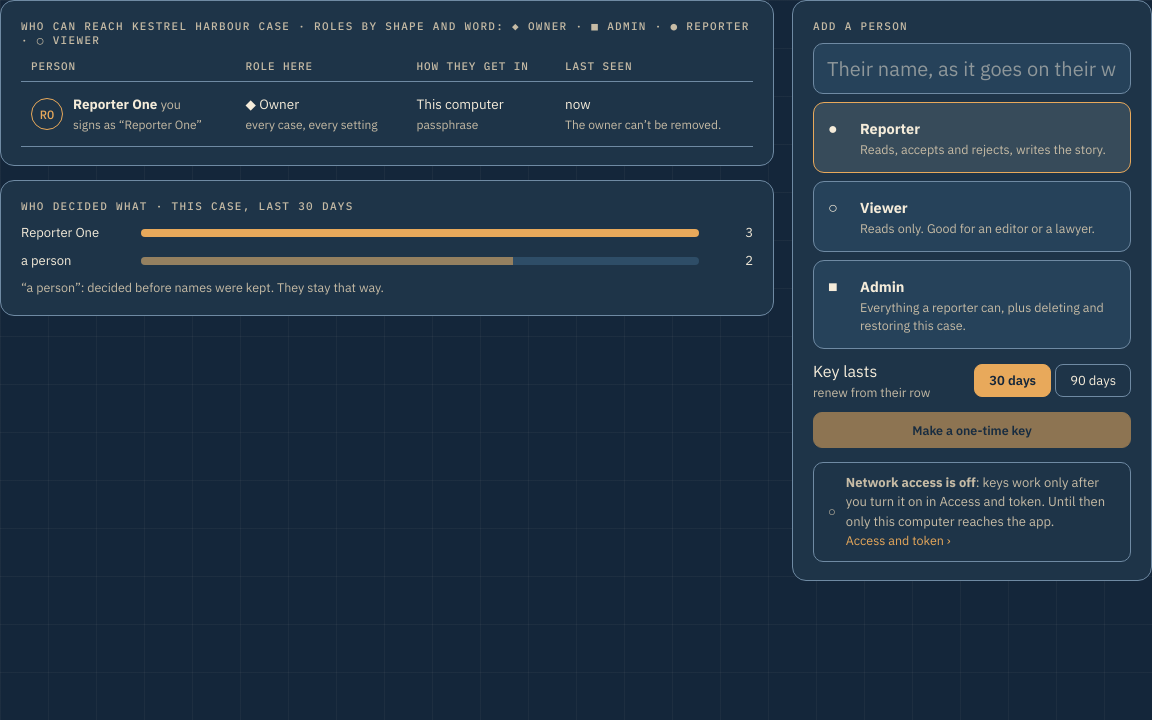
Scenario: Settings › Your safety and People and access › adds a person to this case with a one-time key, and says network access is off
Expected: the text "a person" is shown, [21,252,72,269]
Expected: the text "Network access is off" is shown, [846,474,976,491]
Type "Jo Okafor" into the field labelled "Their name".
click(972, 68); type("Jo Okafor")  # box [813,43,1131,94]
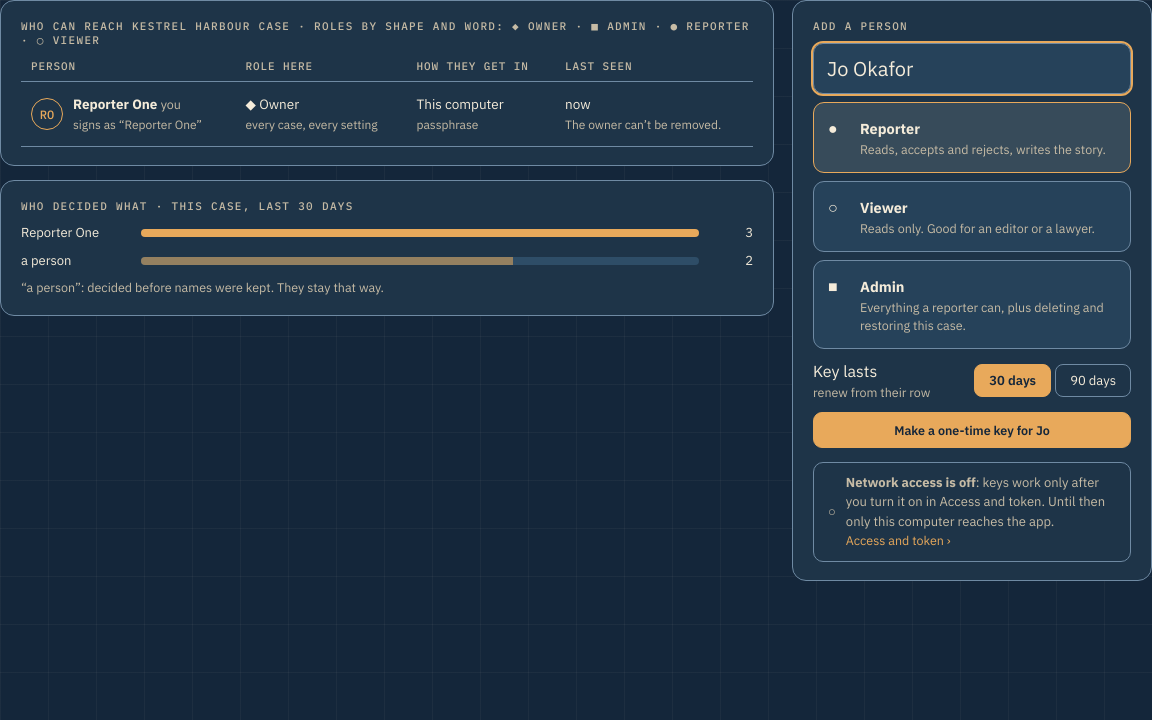
Click the radio button labelled "○ Viewer Reads only. Good for an editor or a lawyer.".
click(884, 207)  # box [813,181,1131,252]
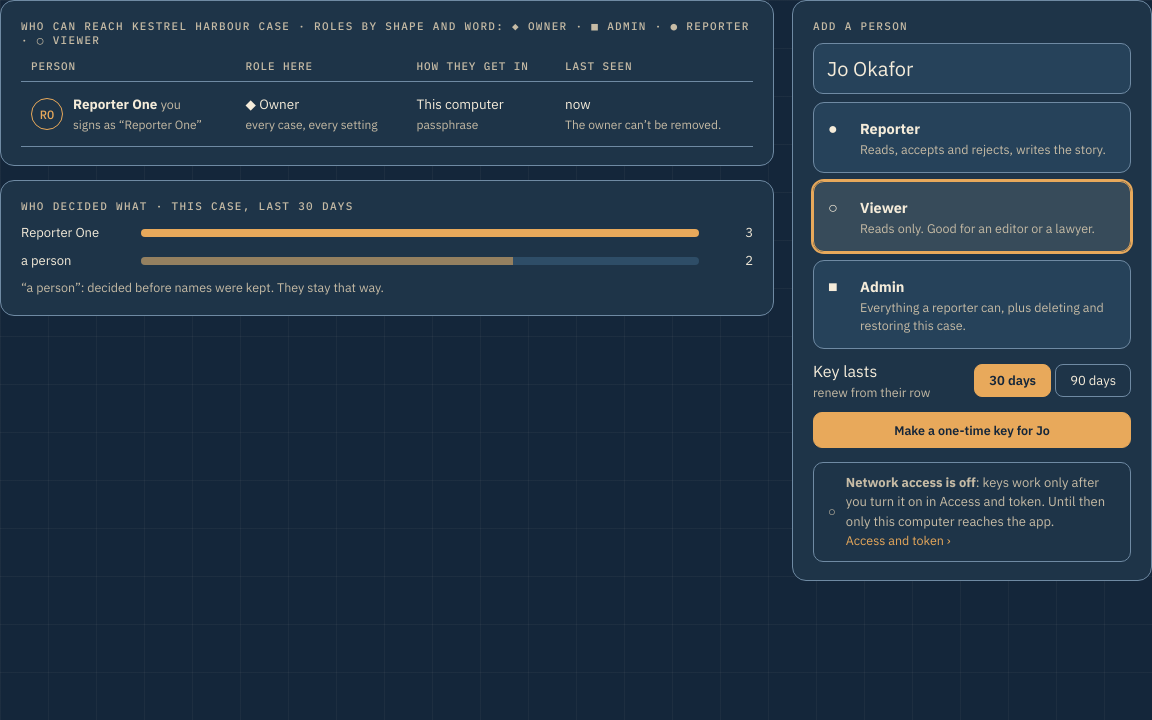
Click the radio button labelled "90 days".
click(1093, 380)  # box [1055,364,1131,397]
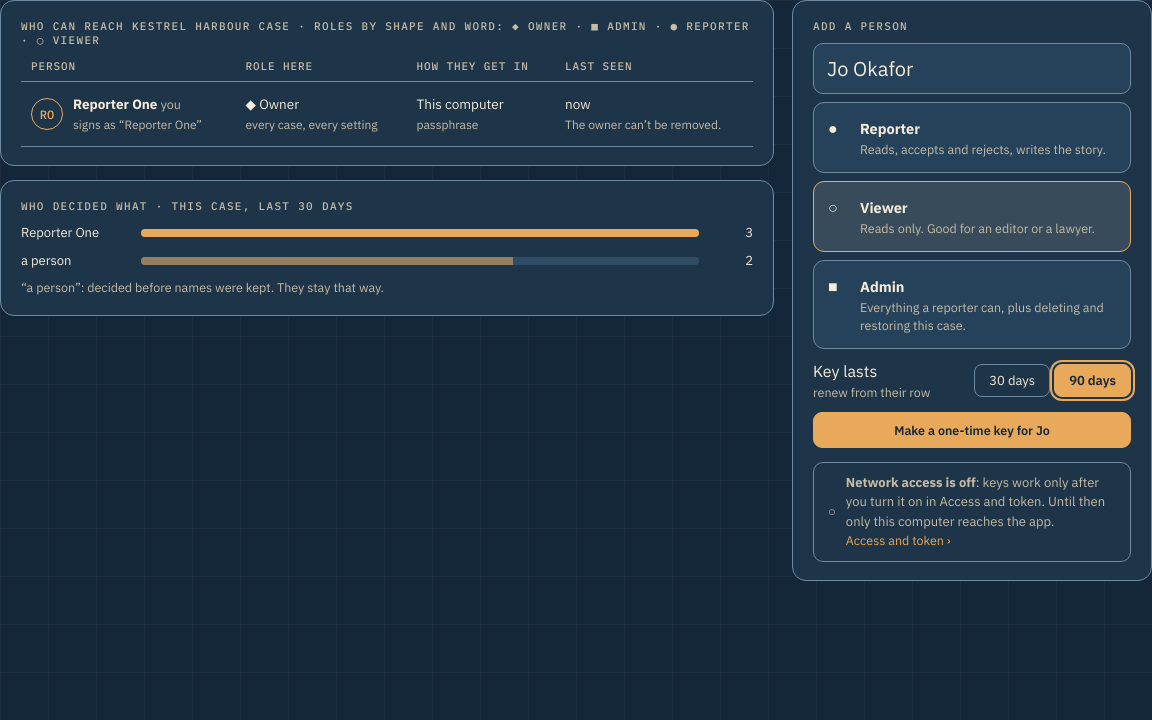
Click the button "Make a one-time key for Jo".
click(972, 430)  # box [813,412,1131,448]
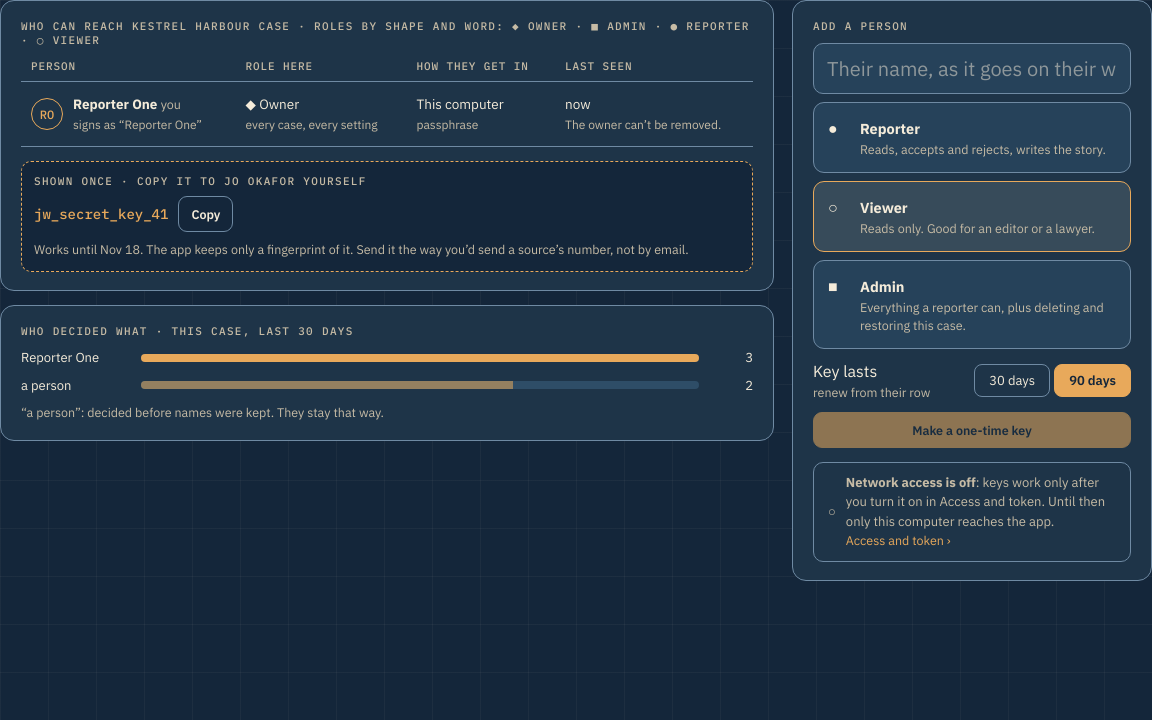
Result: the text "jw_secret_key_41" is shown at [34,205,168,223]
